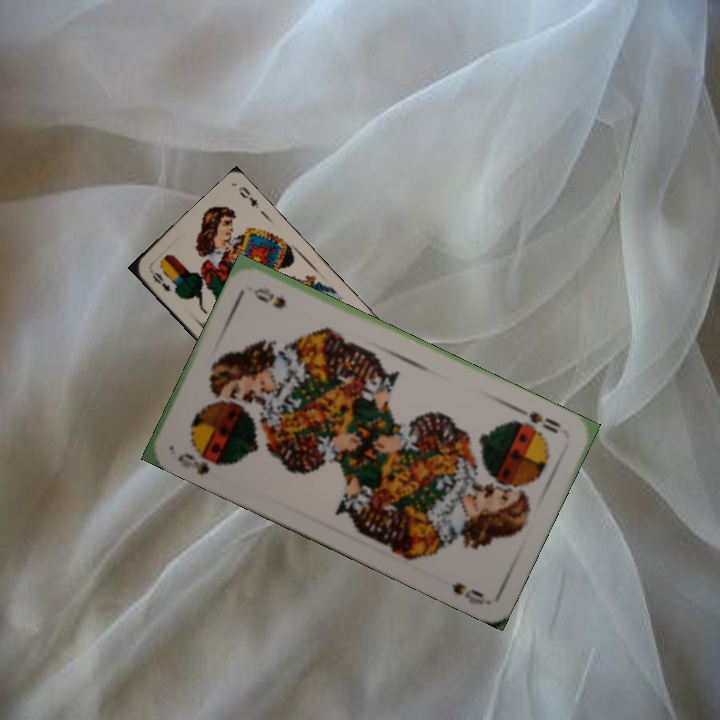EO: (146, 266, 174, 294)
SO: (510, 404, 564, 437), (173, 448, 231, 478)
